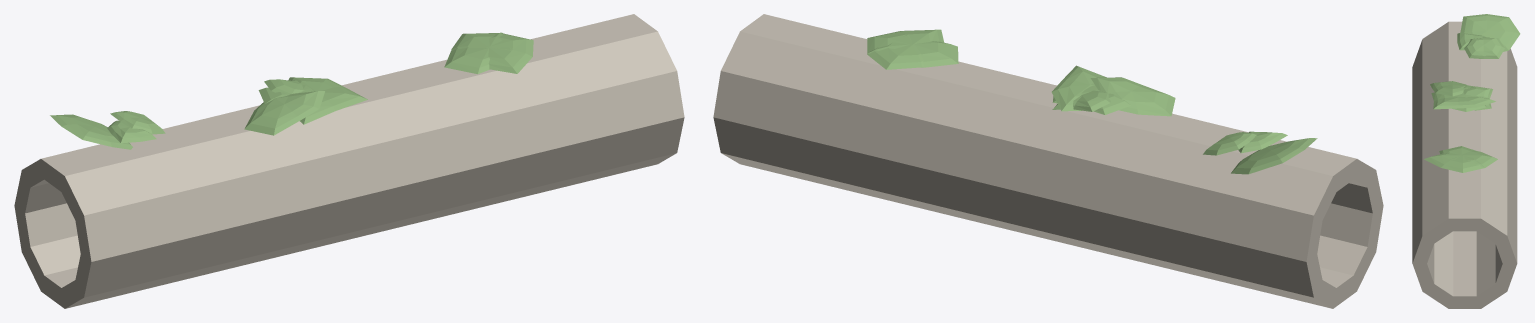
File: hollow-log.glb
3 views of the same model, side by side, from view 1: azimuth 30°, elevation 25°; view 2: azimuth 150°, elevation 25°; view 3: azimuth 270°, elevation 25° (orthographic). The views are drawn at different scales.
Parts seen in each view (by area): view 1: hollow-log; view 2: hollow-log; view 3: hollow-log.
Boxes of the visible parts, left/top/right/bottom form: hollow-log: left=14, top=14, right=684, bottom=308; hollow-log: left=713, top=14, right=1383, bottom=308; hollow-log: left=1412, top=14, right=1520, bottom=308.
Bounding box in the file's own units: 3.2 × 0.8063 × 0.7419.
